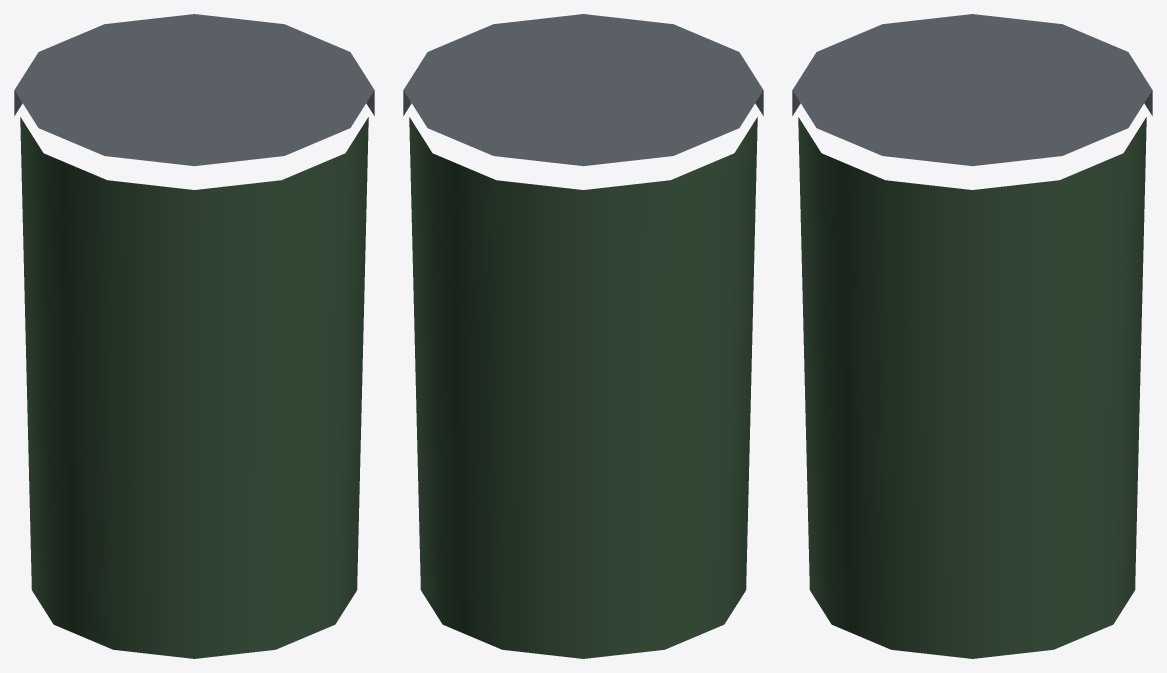
File: bin.glb
3 views of the same model, side by side, from view 1: azimuth 30°, elevation 25°; view 2: azimuth 150°, elevation 25°; view 3: azimuth 270°, elevation 25° (orthographic).
Bounding box in the file's own units: 0.62 × 0.95 × 0.62.
